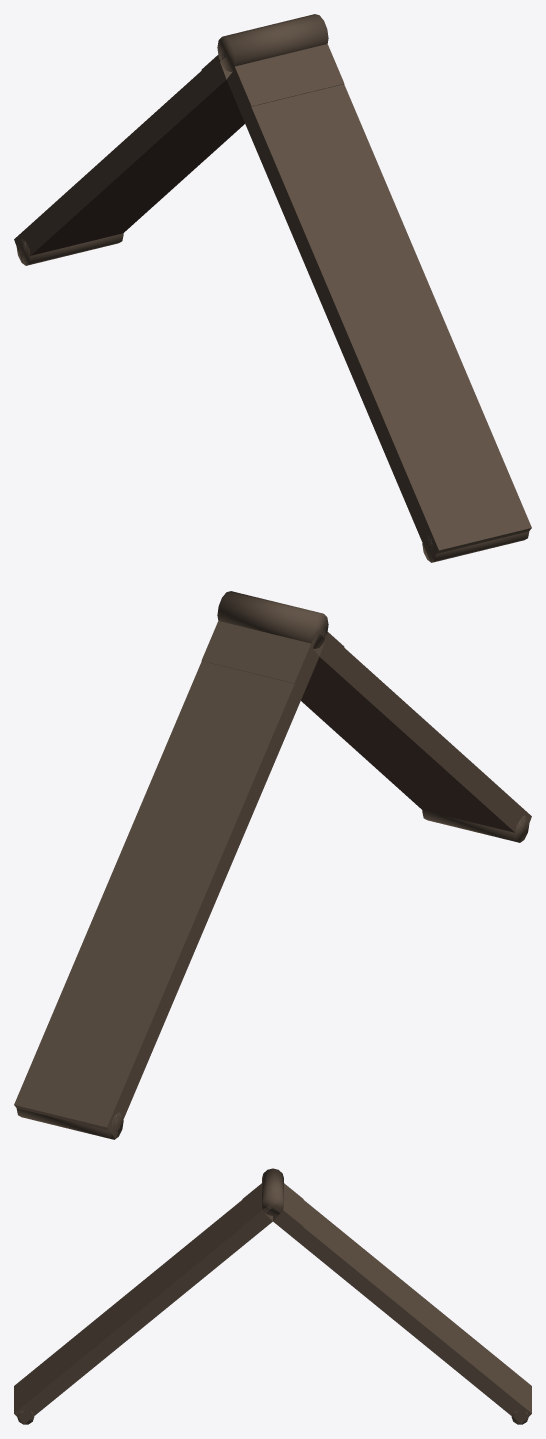
Rendered from kit_timber_thatch_w7.glb.
3 renders of one model, top to bottom at view 1: azimuth 30°, elevation 25°; view 2: azimuth 150°, elevation 25°; view 3: azimuth 270°, elevation 25°, orthographic. The views are drawn at different scales.
Parts seen in each view (by area): view 1: kit_timber_thatch_w7; view 2: kit_timber_thatch_w7; view 3: kit_timber_thatch_w7.
Boxes of the visible parts, bbox=[...] form: kit_timber_thatch_w7: bbox=[14, 14, 531, 562]; kit_timber_thatch_w7: bbox=[14, 591, 531, 1139]; kit_timber_thatch_w7: bbox=[14, 1168, 531, 1424].
Size of the model in its own units: 1 by 3.86 by 7.92.
